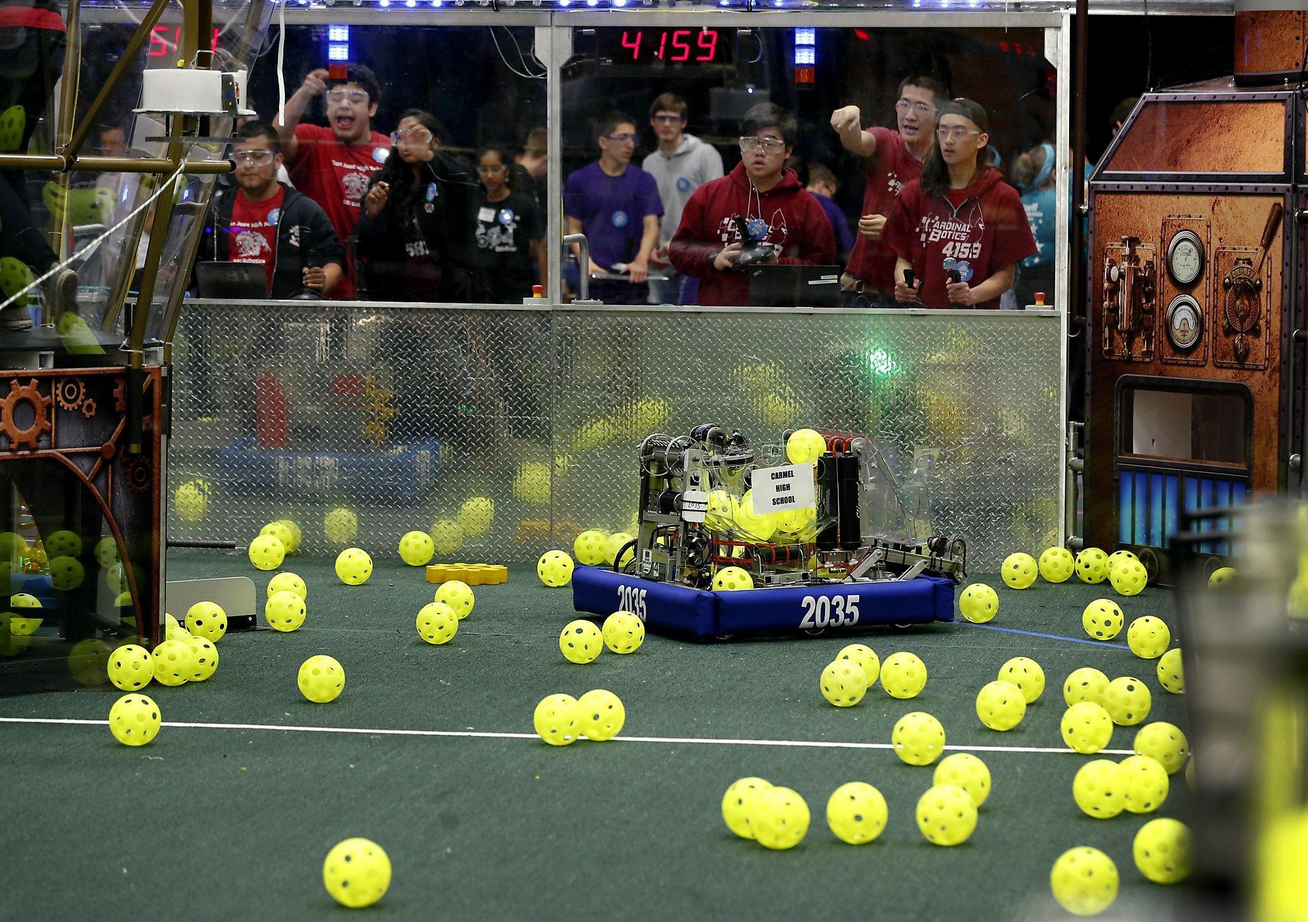robot: (557, 398, 970, 649)
